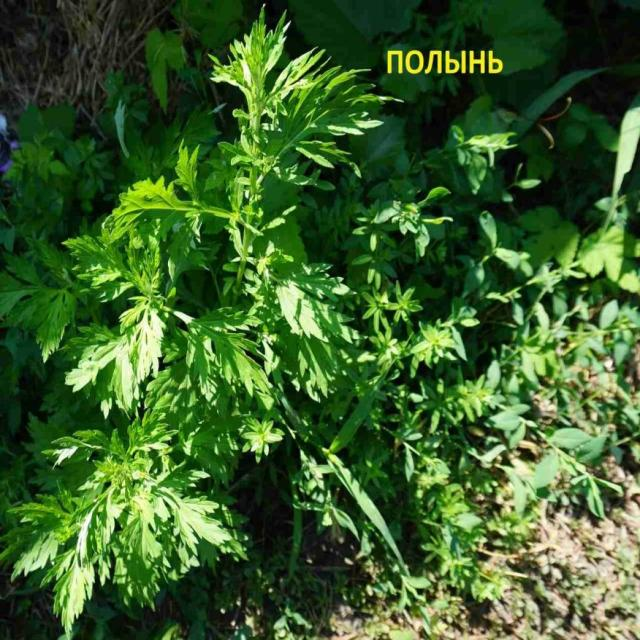ambrosia: (30, 419, 219, 583), (227, 30, 356, 251)
